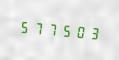five: (17, 16, 30, 37), (60, 20, 73, 41)
seven: (31, 17, 44, 38), (46, 18, 59, 39)
three: (88, 22, 101, 43)
zero: (74, 21, 87, 42)
